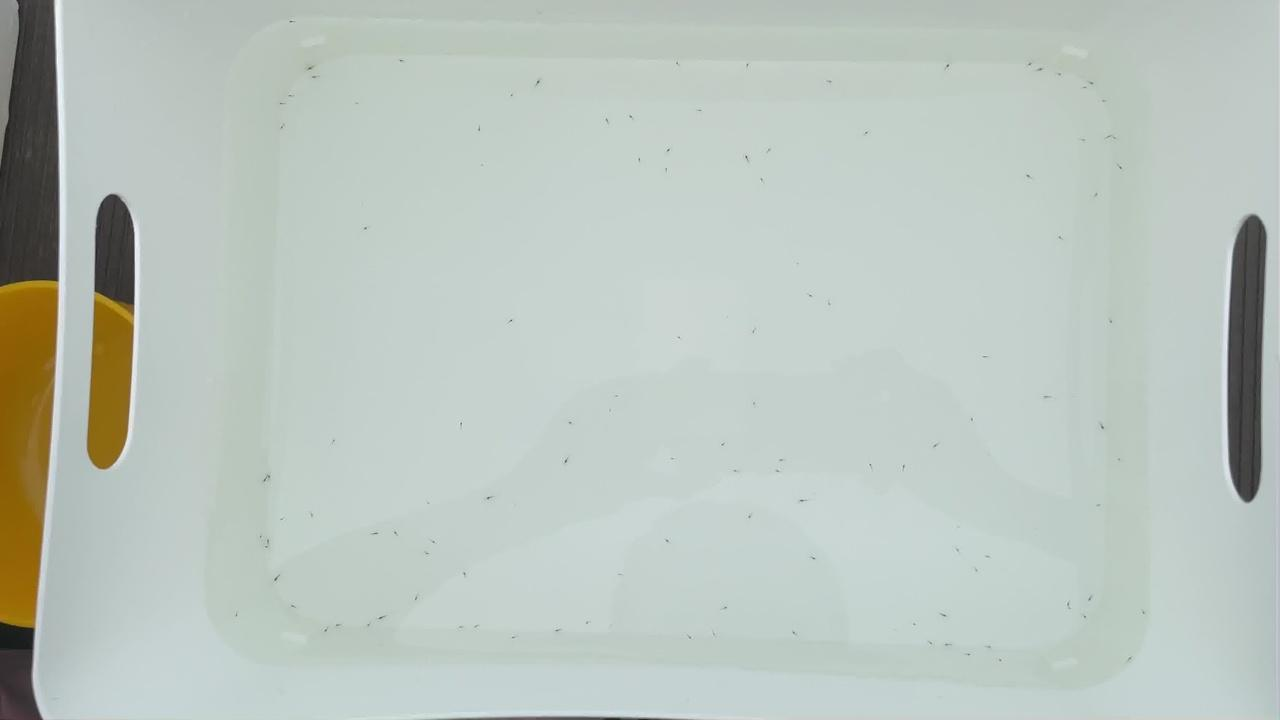shrimp: (233, 611, 245, 619), (288, 605, 300, 613), (271, 577, 283, 585), (259, 543, 271, 551), (263, 539, 275, 547), (255, 533, 267, 541), (257, 475, 269, 483), (262, 472, 274, 480), (277, 514, 289, 522), (304, 511, 316, 519), (329, 439, 341, 447), (368, 526, 380, 534), (393, 532, 405, 540), (421, 552, 433, 560), (428, 537, 440, 545), (423, 500, 435, 508), (455, 420, 467, 428), (506, 316, 518, 324), (611, 393, 623, 401), (605, 408, 617, 416), (566, 420, 578, 428), (561, 459, 573, 467), (484, 495, 496, 503), (460, 570, 472, 578), (470, 623, 482, 631), (455, 626, 467, 634), (411, 594, 423, 602), (378, 616, 390, 624), (363, 625, 375, 633), (332, 622, 344, 630), (320, 629, 332, 637), (511, 634, 523, 642), (550, 628, 562, 636), (580, 621, 592, 629), (612, 569, 624, 577), (685, 636, 697, 644), (710, 634, 722, 642), (719, 608, 731, 616), (661, 538, 673, 546), (667, 457, 679, 465), (715, 441, 727, 449), (729, 466, 741, 474), (771, 470, 783, 478), (775, 458, 787, 466), (746, 402, 758, 410), (672, 335, 684, 343), (750, 328, 762, 336), (804, 291, 816, 299), (822, 302, 834, 310), (896, 465, 908, 473), (866, 462, 878, 470), (799, 497, 811, 505), (742, 516, 754, 524), (810, 556, 822, 564), (788, 630, 800, 638), (1127, 656, 1139, 664), (1139, 611, 1151, 619), (1083, 595, 1095, 603), (1080, 613, 1092, 621), (1064, 603, 1076, 611), (997, 660, 1009, 668), (982, 644, 994, 652), (965, 654, 977, 662), (943, 643, 955, 651), (924, 642, 936, 650), (910, 618, 922, 626), (937, 612, 949, 620), (971, 566, 983, 574), (950, 550, 962, 558), (981, 557, 993, 565), (931, 443, 943, 451), (964, 416, 976, 424), (982, 351, 994, 359), (1042, 393, 1054, 401), (1094, 423, 1106, 431), (1112, 459, 1124, 467), (1090, 502, 1102, 510), (1106, 319, 1118, 327), (1055, 234, 1067, 242), (1021, 172, 1033, 180), (1086, 193, 1098, 201), (1114, 165, 1126, 173), (1108, 136, 1120, 144), (1103, 134, 1115, 142), (1077, 136, 1089, 144), (1099, 98, 1111, 106), (1089, 77, 1101, 85), (1079, 84, 1091, 92), (1054, 73, 1066, 81), (1036, 68, 1048, 76), (1024, 62, 1036, 70), (945, 63, 957, 71), (859, 132, 871, 140), (826, 79, 838, 87), (762, 147, 774, 155), (744, 154, 756, 162), (758, 174, 770, 182), (742, 63, 754, 71), (694, 108, 706, 116), (674, 62, 686, 70), (665, 146, 677, 154), (661, 166, 673, 174), (635, 157, 647, 165), (625, 111, 637, 119), (601, 119, 613, 127), (536, 79, 548, 87), (508, 93, 520, 101), (471, 124, 483, 132), (478, 158, 490, 166), (361, 225, 373, 233), (275, 123, 287, 131), (276, 103, 288, 111), (288, 95, 300, 103), (288, 20, 300, 28), (304, 63, 316, 71), (307, 74, 319, 82), (350, 99, 362, 107), (395, 59, 407, 67)
